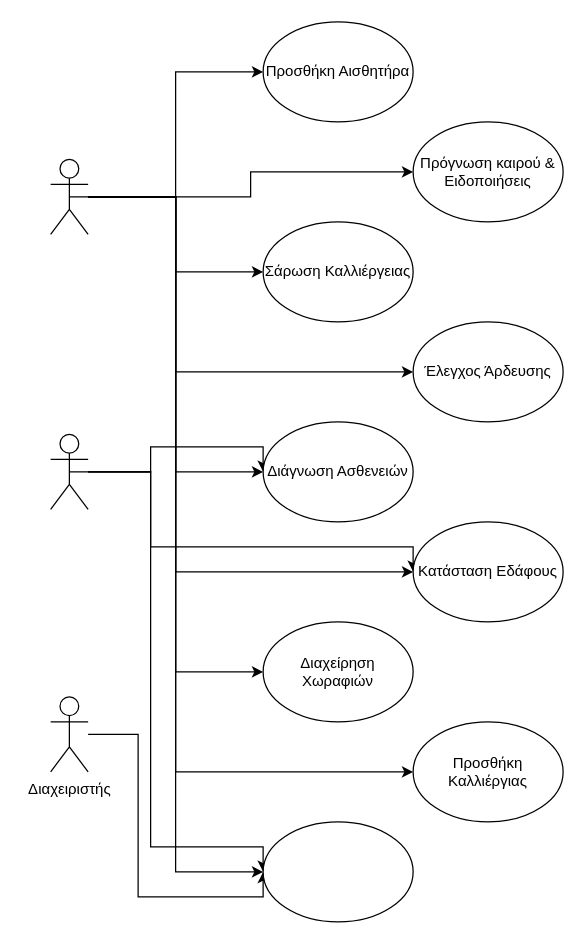
The diagram is 585 pixels wide and 944 high, and some of its shapes have lost their labels. The shapes that lost their labels are listed below. From the top down, each one's box as (x1, y1, x2, y2) in pixels, then its label:
(49, 158, 88, 234): Ιδιοκτήτητης Αγροκτήματος
(49, 433, 88, 509): Σύμβουλος
(262, 821, 413, 922): Υποστήριξη πελατών
